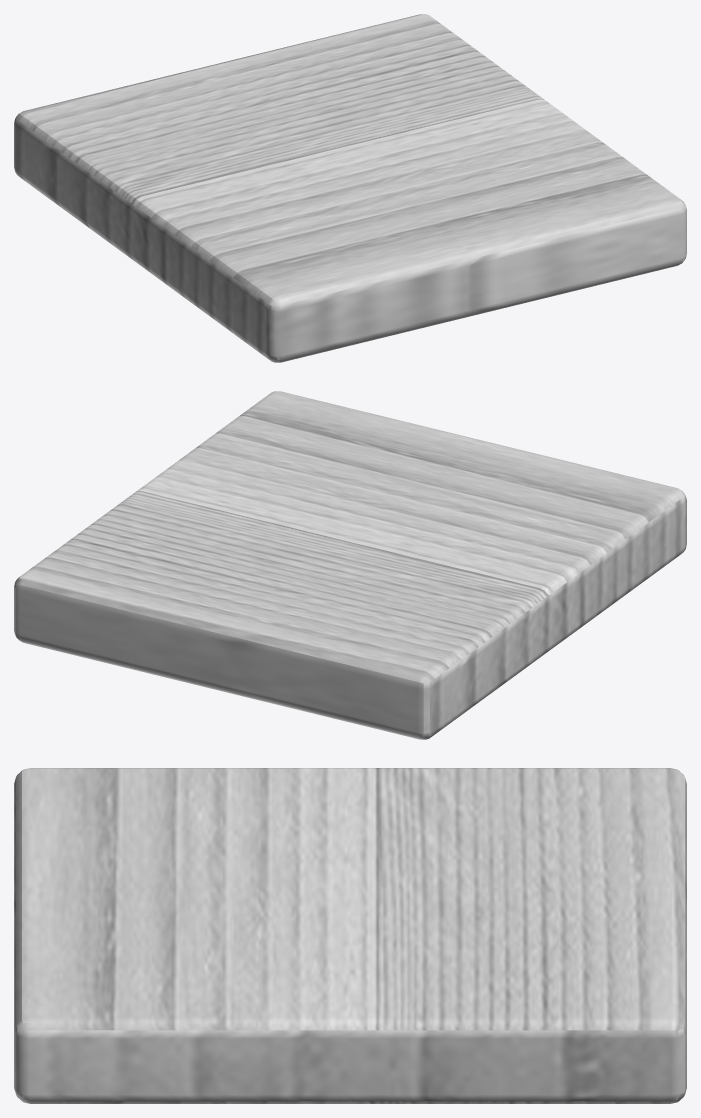
Rendered from House_Base_clg.fbx.
3 renders of one model, top to bottom at view 1: azimuth 30°, elevation 25°; view 2: azimuth 150°, elevation 25°; view 3: azimuth 270°, elevation 25°, orthographic. The views are drawn at different scales.
Visible parts, largest first — view 1: polySurface99; view 2: polySurface99; view 3: polySurface99.
Boxes of the visible parts, left/top/right/bottom form: polySurface99: left=14, top=14, right=686, bottom=362; polySurface99: left=14, top=391, right=686, bottom=739; polySurface99: left=14, top=768, right=686, bottom=1103.
Bounding box in the file's own units: 116 × 17.66 × 127.
